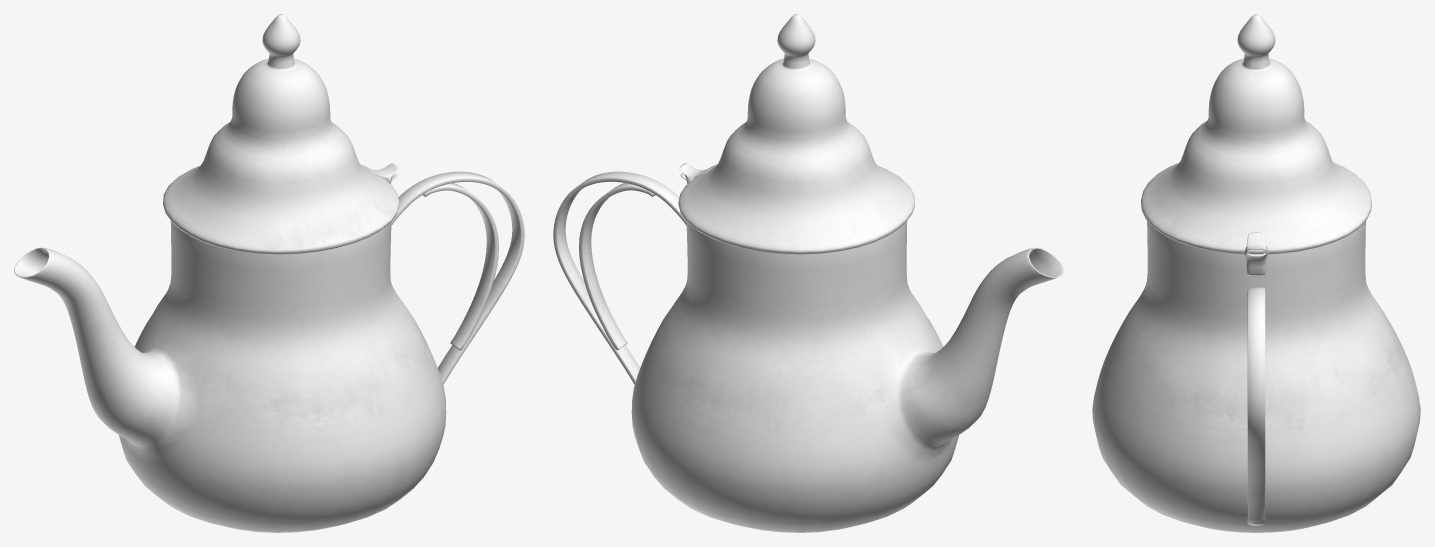
Rendered from Silver_Teapot.fbx.
3 renders of one model, left to right at view 1: azimuth 30°, elevation 25°; view 2: azimuth 150°, elevation 25°; view 3: azimuth 270°, elevation 25°, orthographic.
Parts seen in each view (by area): view 1: TeaPot; view 2: TeaPot; view 3: TeaPot.
Part boxes in pixels (x1,y1,x2,y2): TeaPot: (14, 14, 524, 532); TeaPot: (553, 14, 1063, 532); TeaPot: (1092, 14, 1420, 532).
Size of the model in its own units: 23 by 21 by 13.
